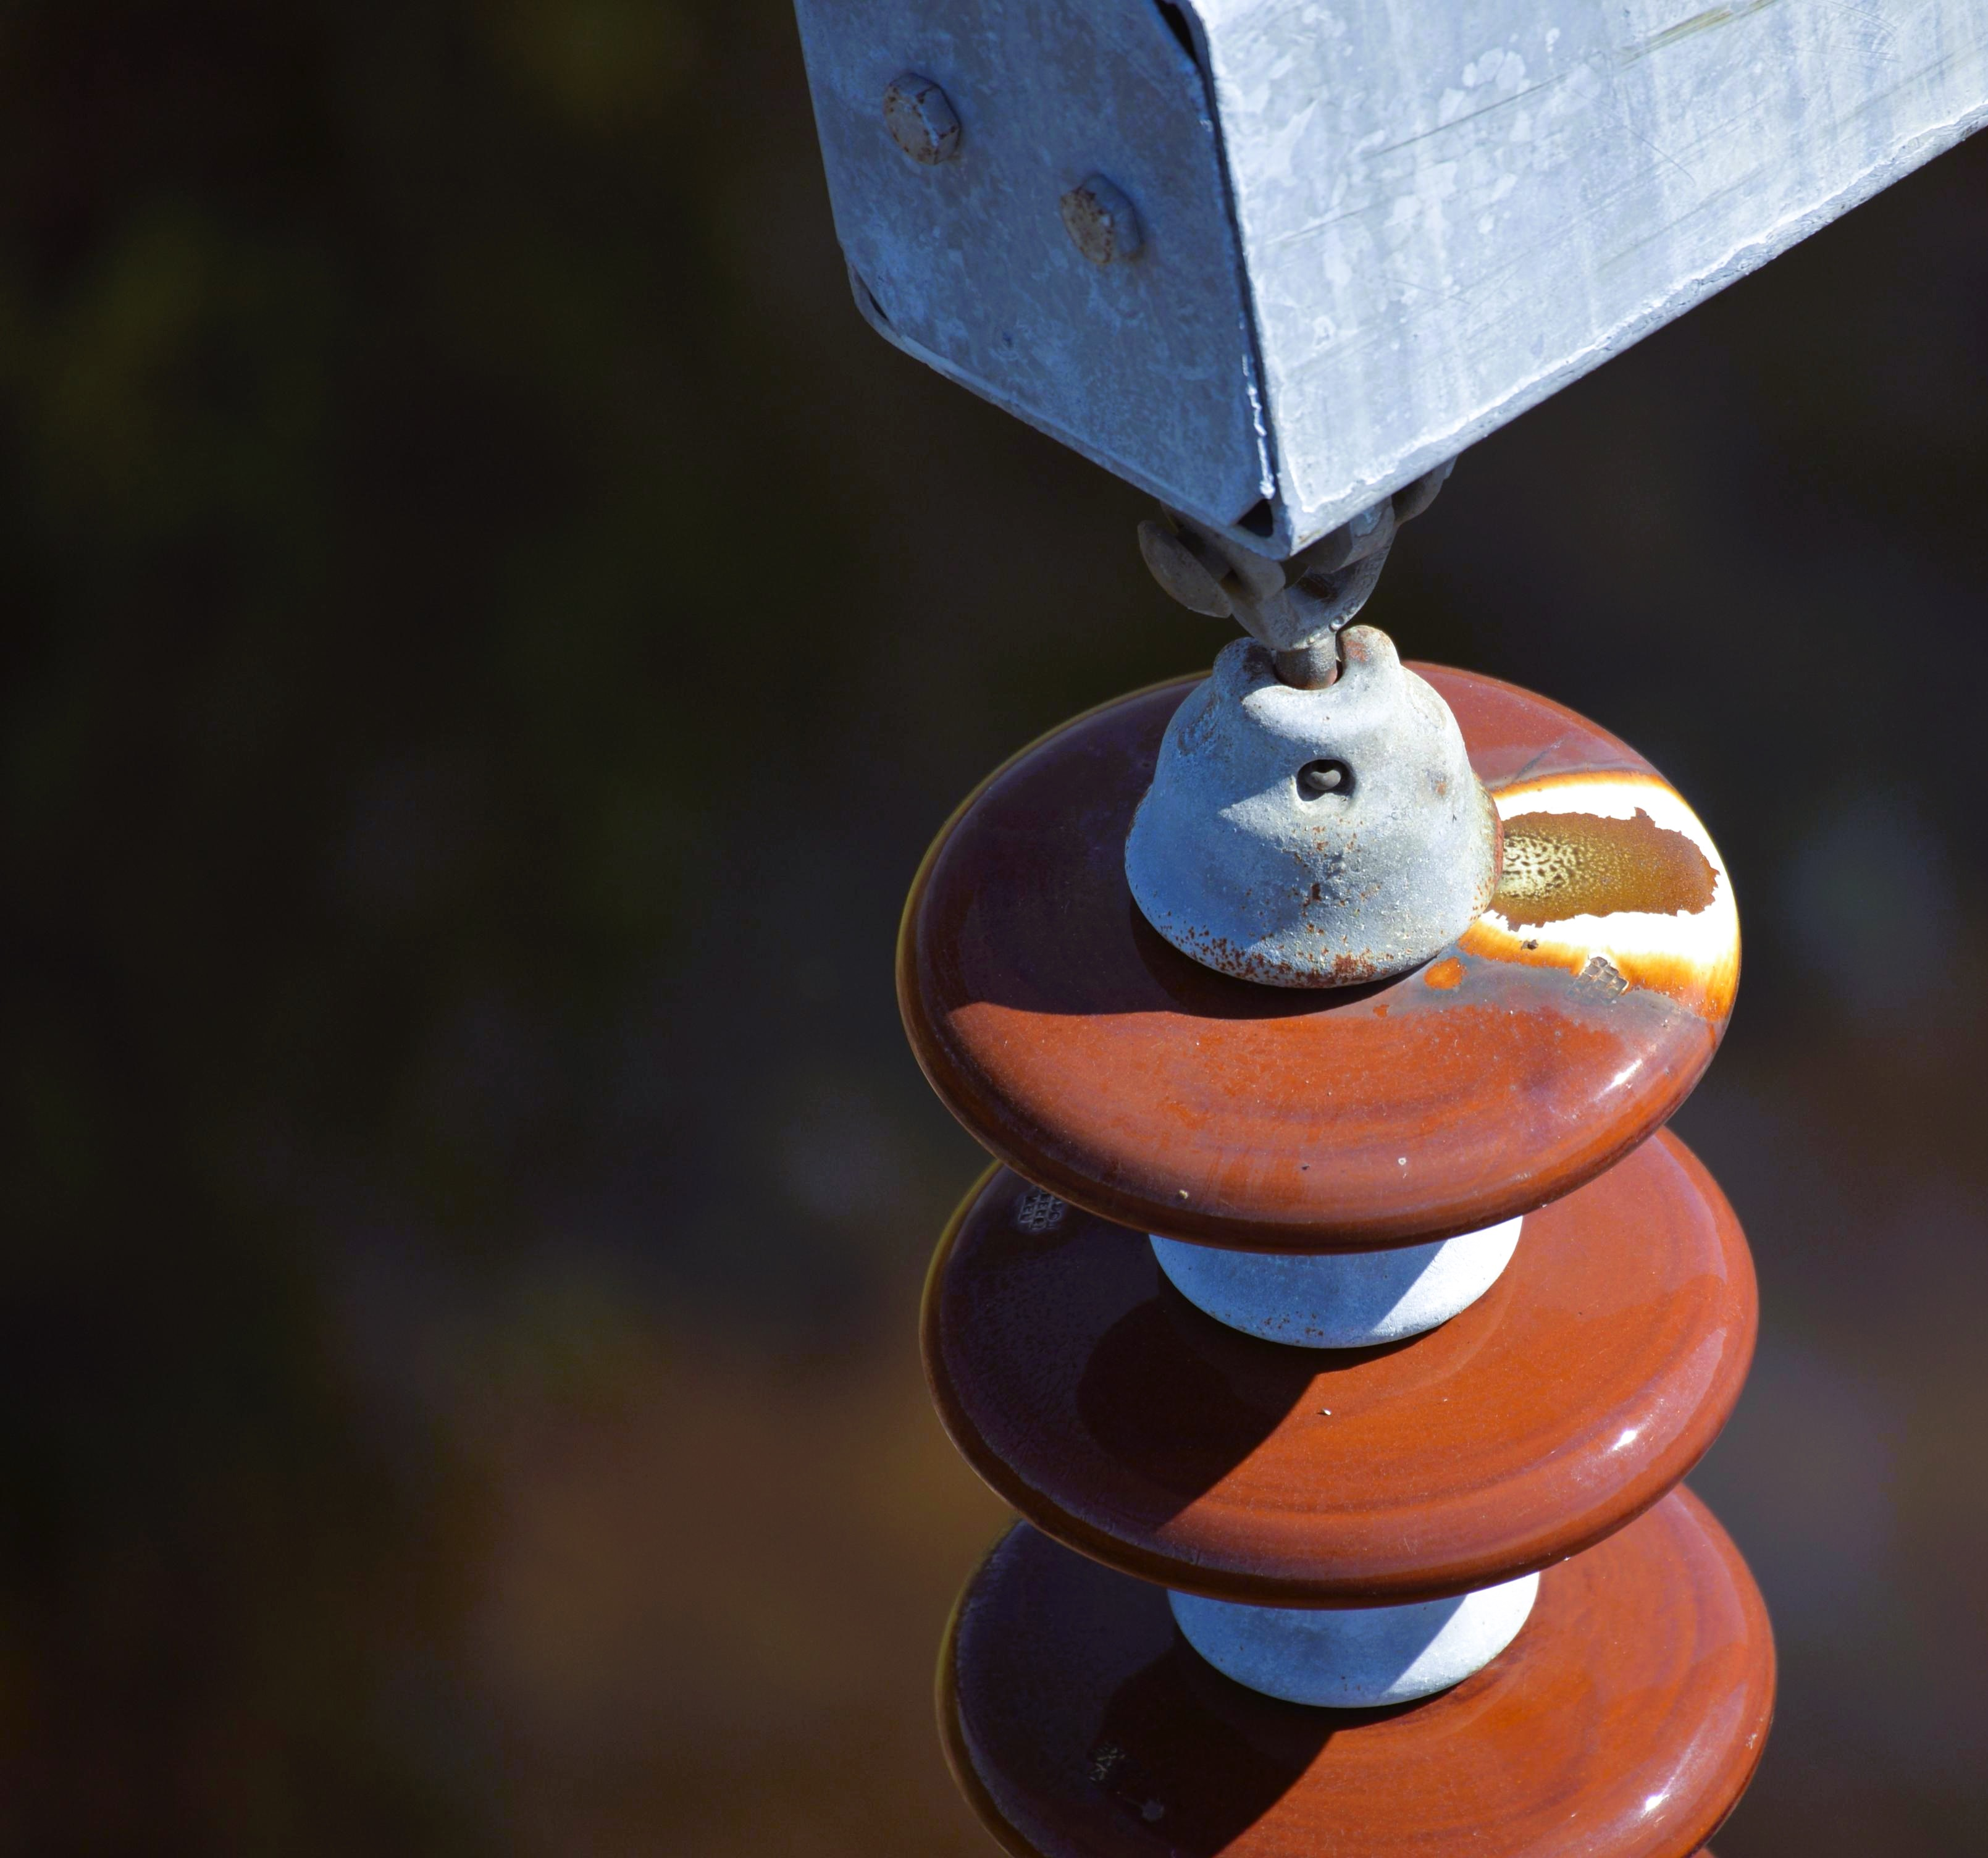Insulator flashover: (864, 632, 1768, 1252)
